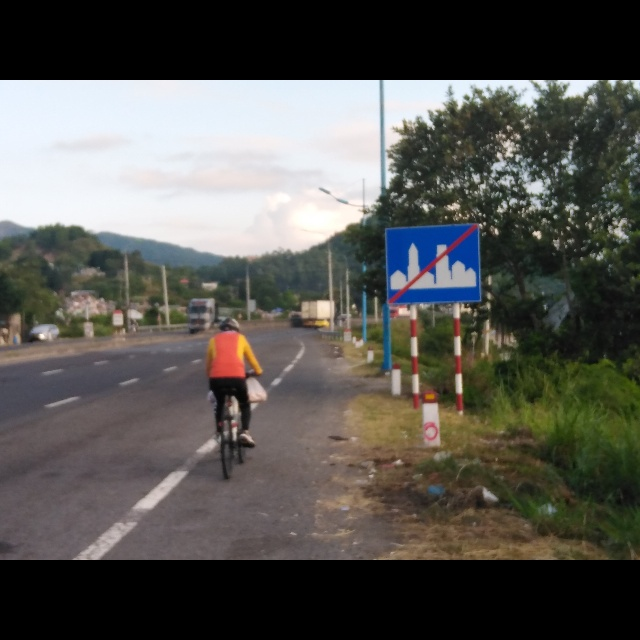Hết khu đông dân cư: (383, 222, 484, 305)
